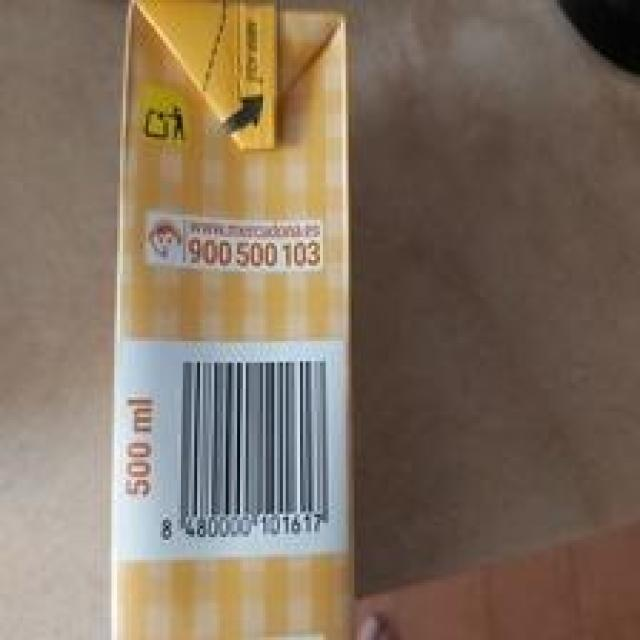PaperCardboard: (122, 1, 355, 640)
